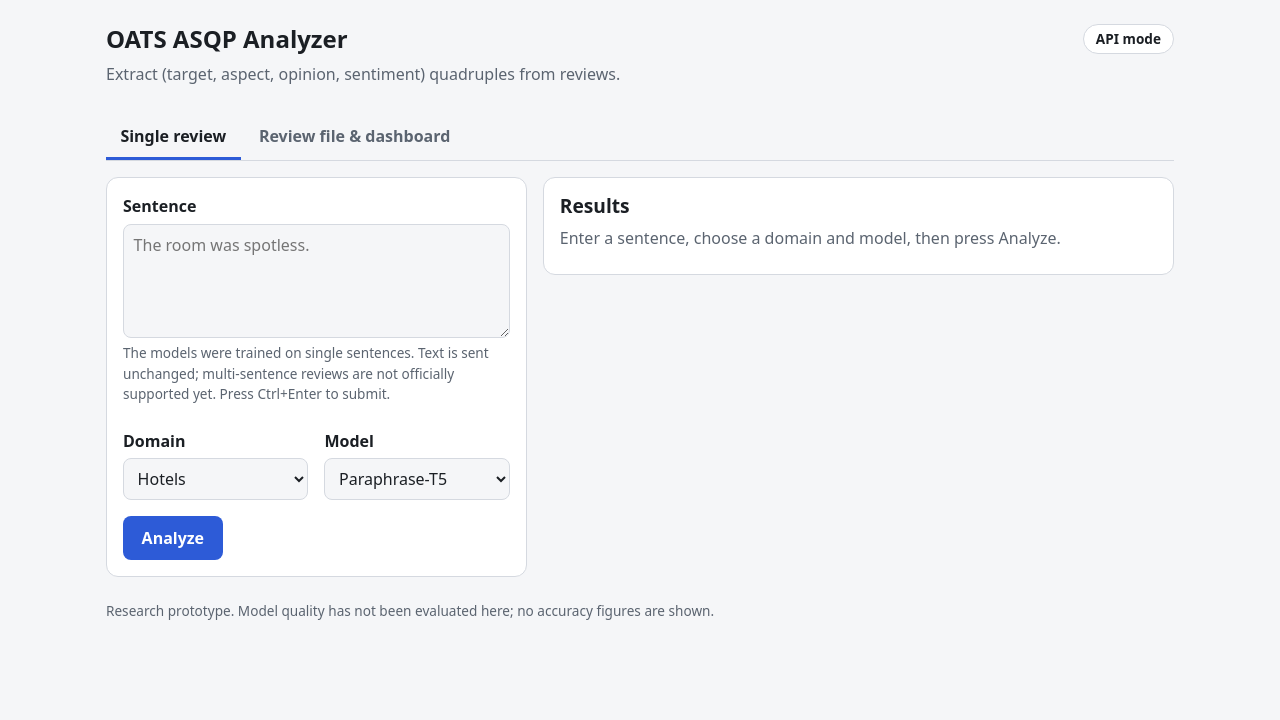
Test: App › does not send a request for empty input
Clear the text box labelled "Sentence" at (316, 281), box [123,224,510,338]
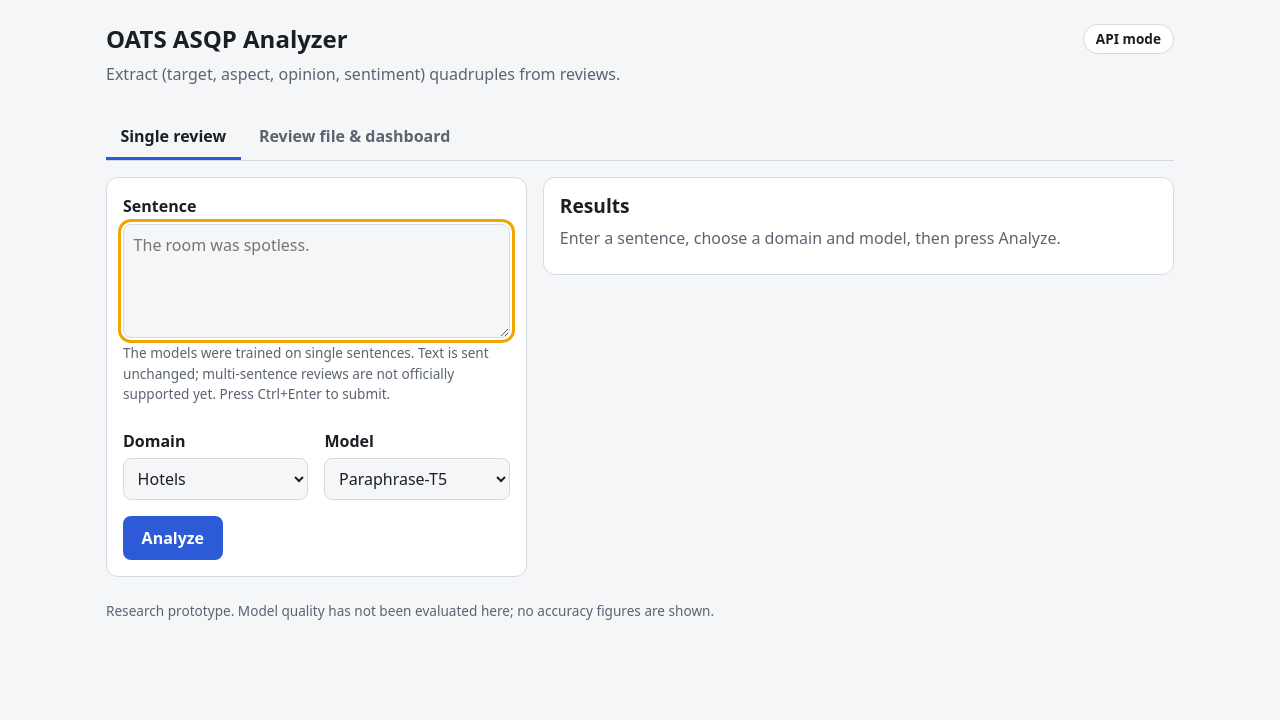
Click the button "Analyze" at (173, 538), box [123,516,223,560]
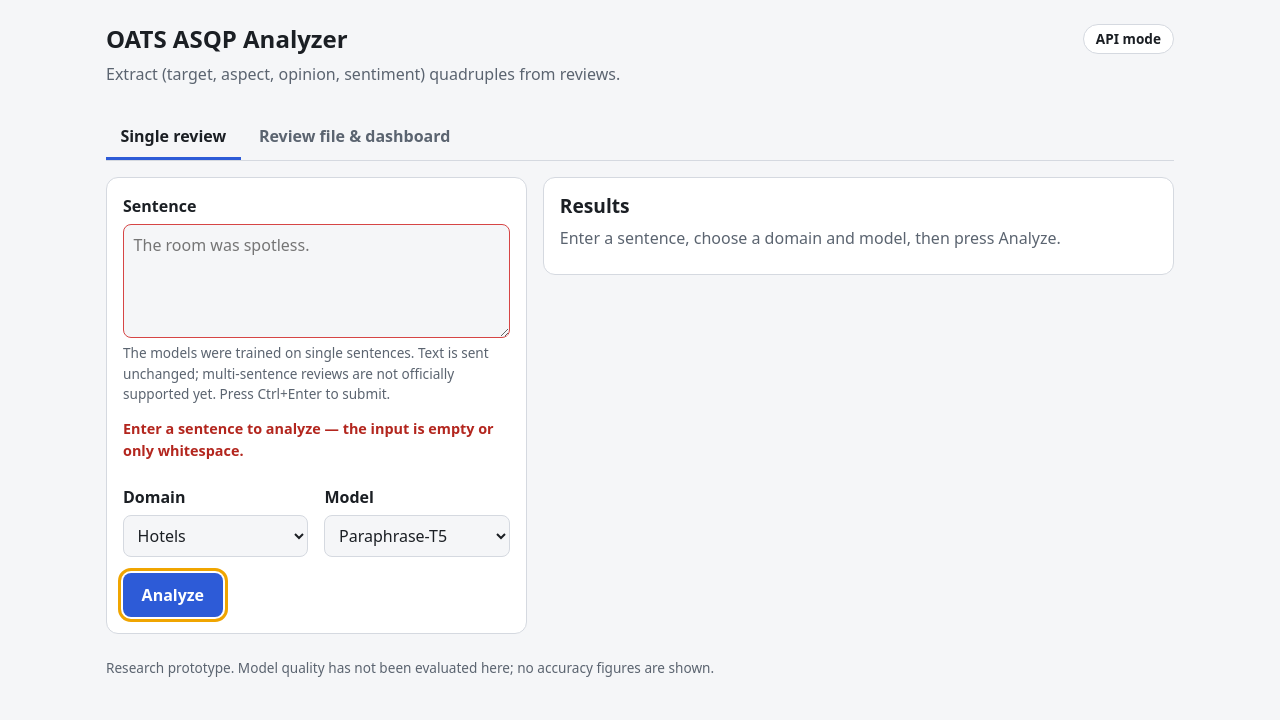
Now the message shows "empty or only whitespace", box [123,419,494,460]
